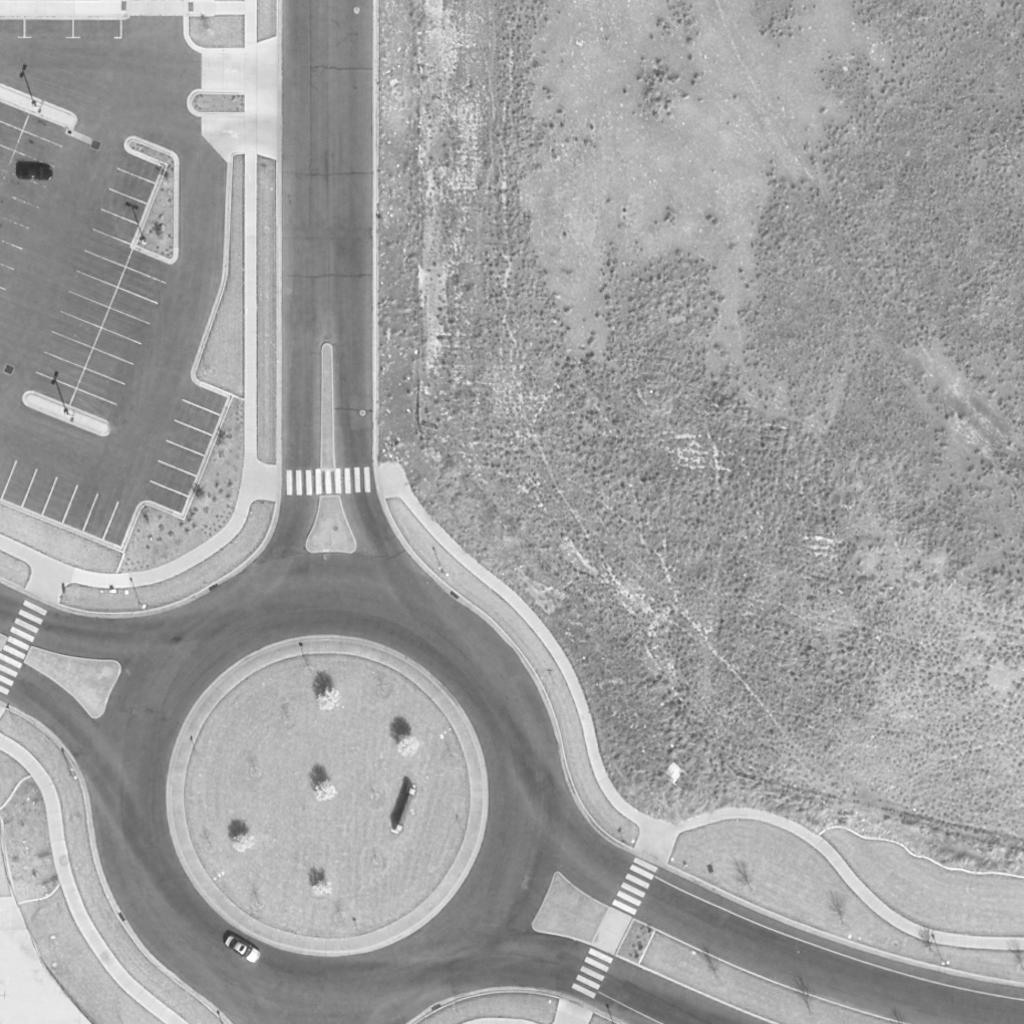vehicle: (223, 933, 263, 965), (15, 164, 55, 180)
